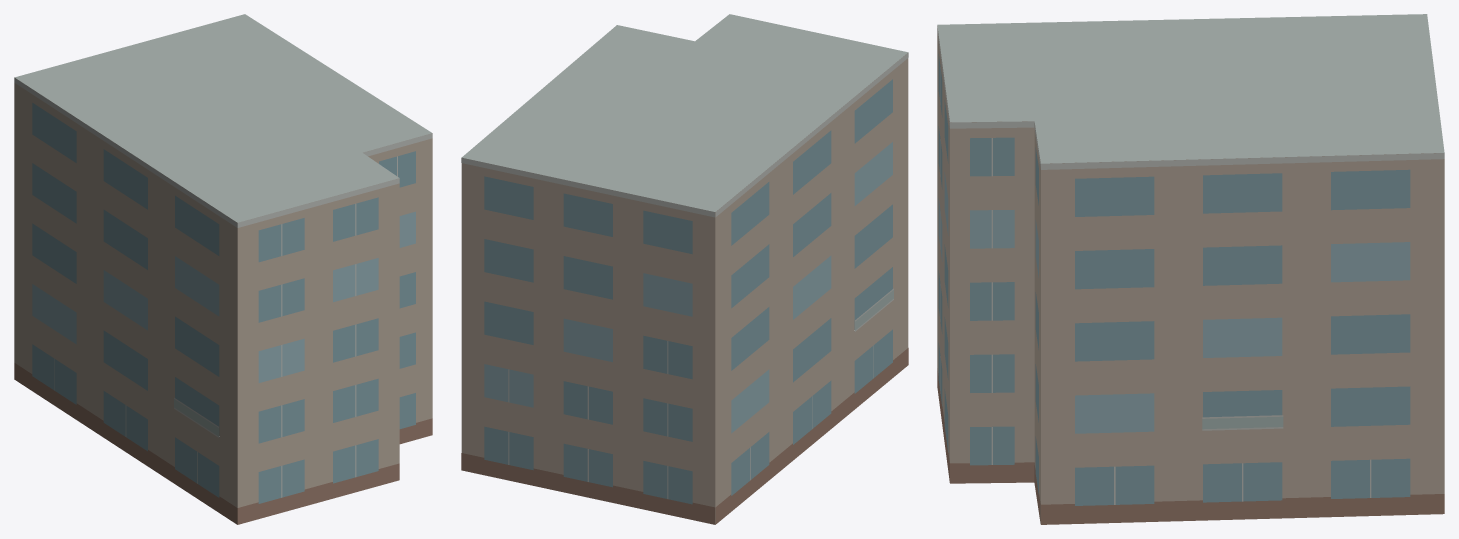
The model's file is survey-upis-32743887.glb.
3 views of the same model, side by side, from view 1: azimuth 30°, elevation 25°; view 2: azimuth 150°, elevation 25°; view 3: azimuth 270°, elevation 25° (orthographic). The views are drawn at different scales.
Parts seen in each view (by area): view 1: survey-upis-32743887.tmp; view 2: survey-upis-32743887.tmp; view 3: survey-upis-32743887.tmp.
Part boxes in pixels (bbox=[...]): survey-upis-32743887.tmp: bbox=[14, 14, 432, 524]; survey-upis-32743887.tmp: bbox=[461, 14, 908, 524]; survey-upis-32743887.tmp: bbox=[937, 14, 1444, 524].
Bounding box in the file's own units: 12.45 × 14 × 17.83.
